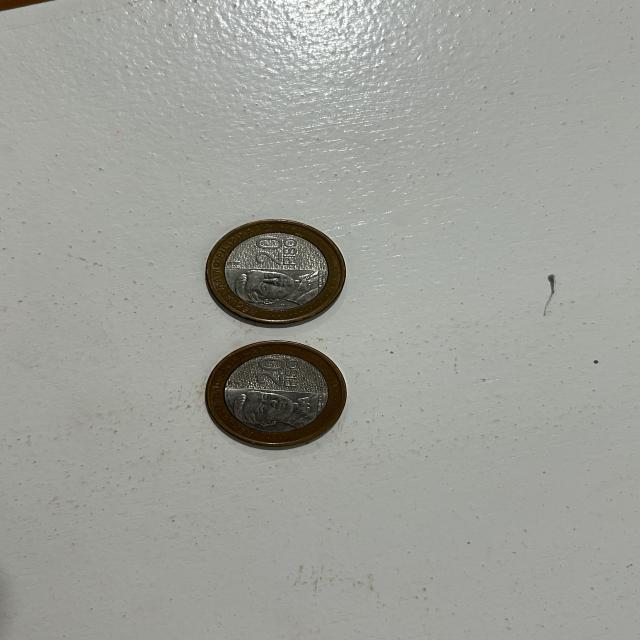20_New_Front: (255, 354, 310, 393), (256, 236, 312, 270)
